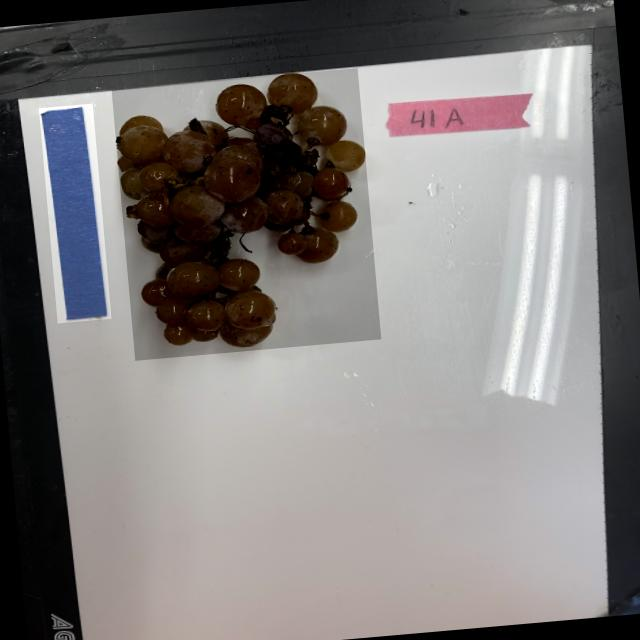grape_cluster: (111, 68, 381, 360)
measure_label: (38, 103, 111, 323)
